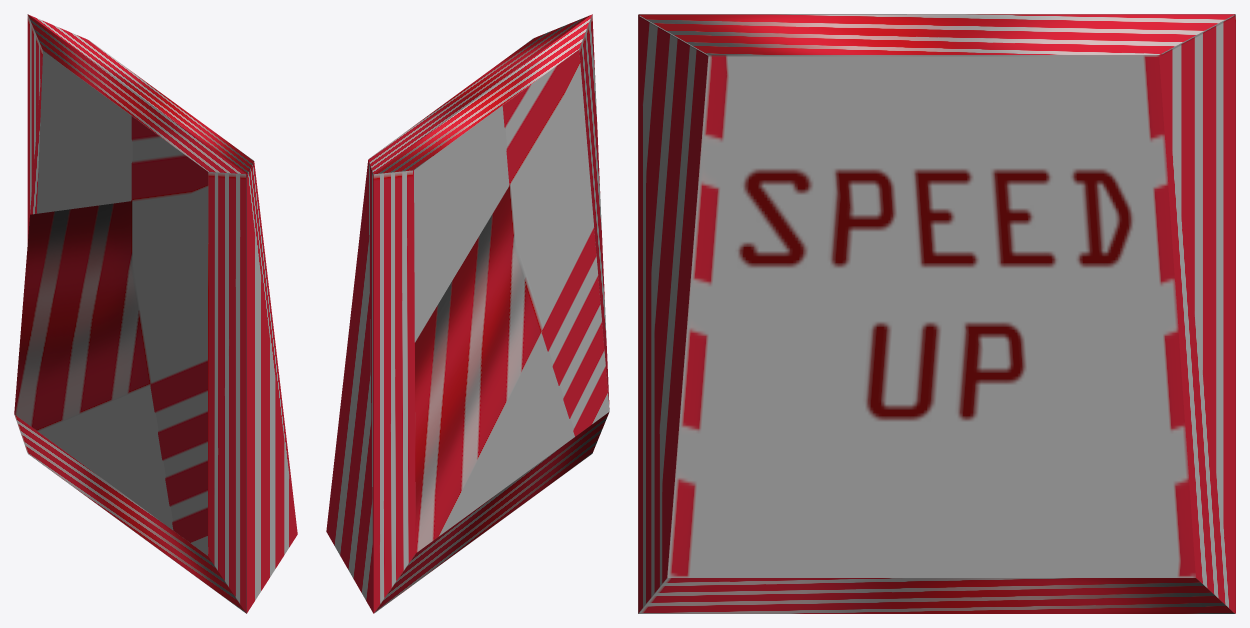
The model's file is SpeedUp 2.fbx.
3 renders of one model, left to right at view 1: azimuth 30°, elevation 25°; view 2: azimuth 150°, elevation 25°; view 3: azimuth 270°, elevation 25°, orthographic. The views are drawn at different scales.
Visible parts, largest first — view 1: Cube; view 2: Cube; view 3: Cube.
Part boxes in pixels (x1,y1,x2,y2): Cube: (14, 14, 297, 613); Cube: (326, 14, 609, 613); Cube: (638, 14, 1235, 613).
Bounding box in the file's own units: 47.29 × 222 × 200.
Materials: 1 (1 with a texture image).
